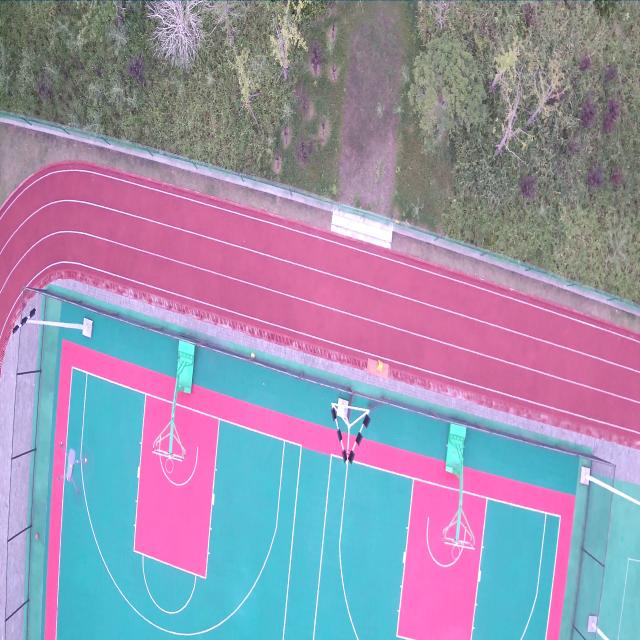UAV: (56, 440, 87, 498)
